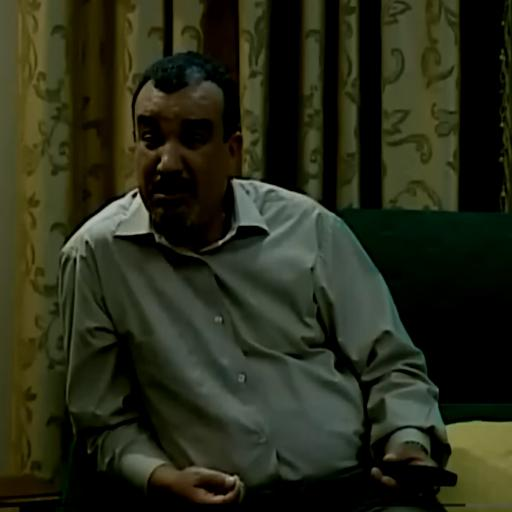slimane: (131, 52, 240, 251)
